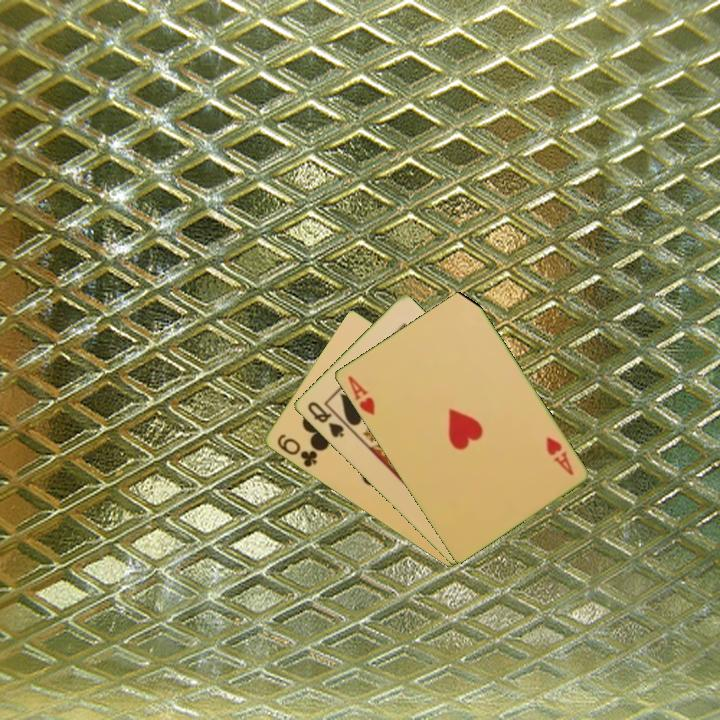6c: (273, 430, 320, 470)
Ah: (344, 372, 378, 418), (542, 434, 576, 479)
Qs: (304, 398, 347, 440)
